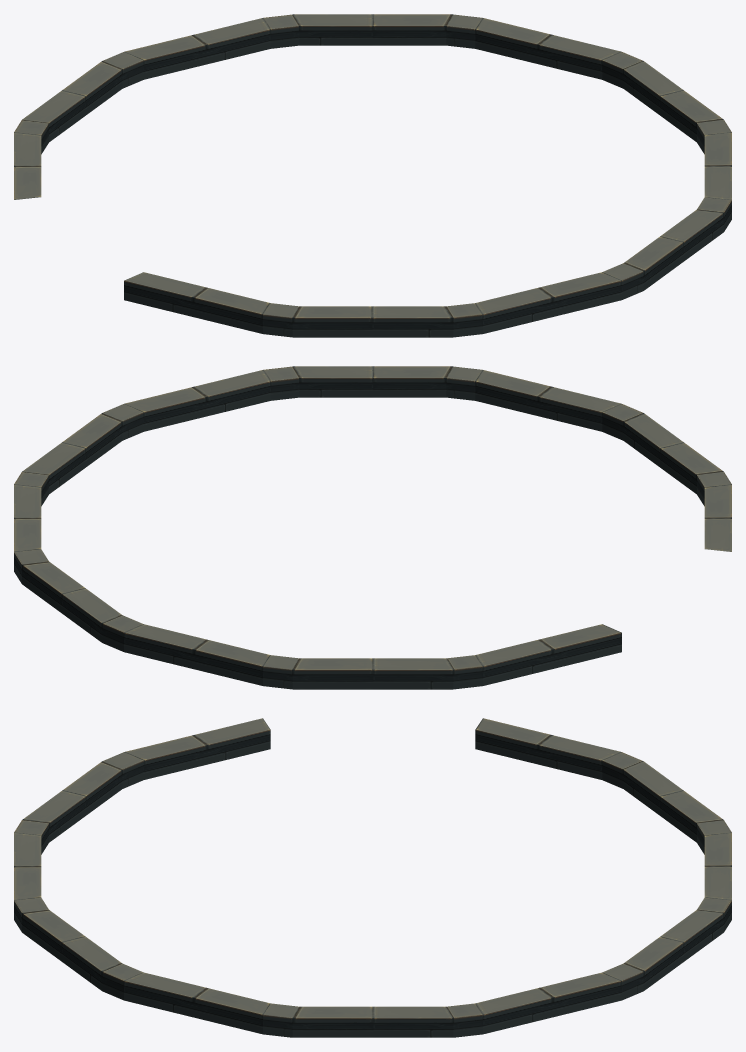
Rendered from cs_chengshi_xuyuanshufb_001.FBX.
The picture shows the model from 3 angles, top to bottom: view 1: azimuth 30°, elevation 25°; view 2: azimuth 150°, elevation 25°; view 3: azimuth 270°, elevation 25°; orthographic projection.
Visible parts, largest first — view 1: cs_chengshi_xuyuanshufb_001; view 2: cs_chengshi_xuyuanshufb_001; view 3: cs_chengshi_xuyuanshufb_001.
Part boxes in pixels (x1,y1,x2,y2): cs_chengshi_xuyuanshufb_001: (14, 14, 731, 337); cs_chengshi_xuyuanshufb_001: (14, 366, 731, 689); cs_chengshi_xuyuanshufb_001: (14, 718, 731, 1037).
Bounding box in the file's own units: 514 × 520 × 15.65.
